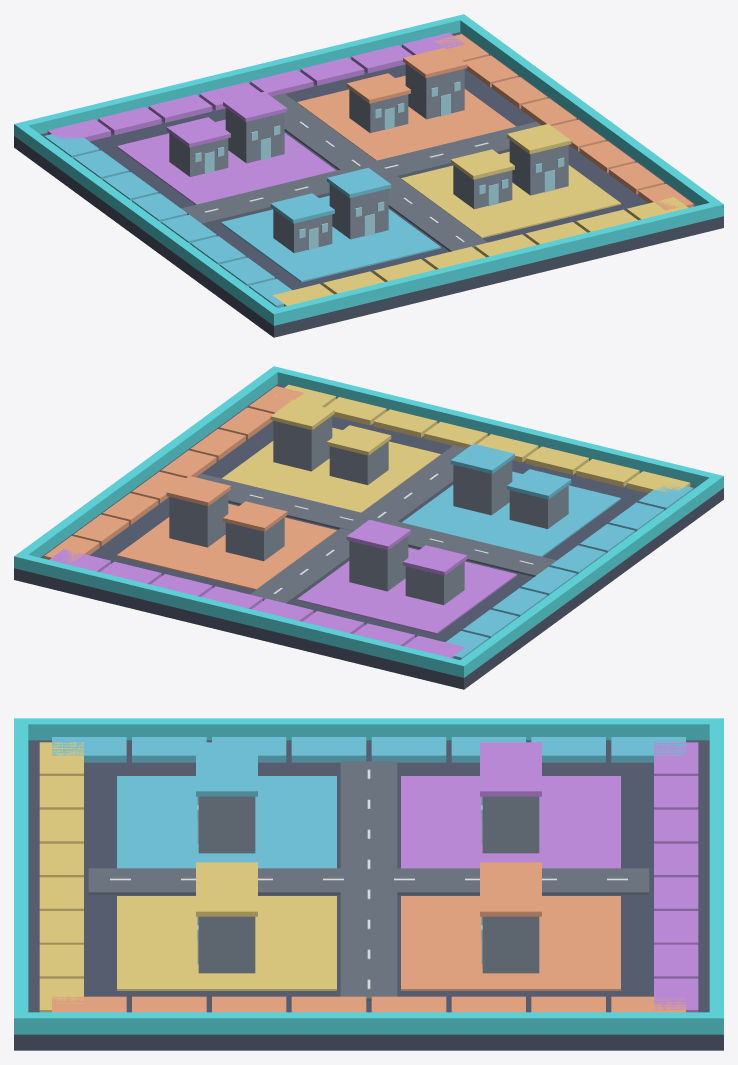
File: MCE_Board.glb
3 renders of one model, top to bottom at view 1: azimuth 30°, elevation 25°; view 2: azimuth 150°, elevation 25°; view 3: azimuth 270°, elevation 25°, orthographic. The views are drawn at different scales.
Parts seen in each view (by area): view 1: Board_Base, Border_South, Border_North, Global_District, Country_District, HipHop_District, Latin_District, Central_Road_EW, Central_Road_NS, Border_West, Border_East, Latin_Producer (+47 smaller); view 2: Board_Base, Border_North, Border_South, HipHop_District, Latin_District, Global_District, Country_District, Central_Road_EW, Central_Road_NS, Border_West, Border_East, Latin_Producer (+47 smaller); view 3: Board_Base, Latin_District, Country_District, Border_East, HipHop_District, Global_District, Central_Road_EW, Border_West, Central_Road_NS, Border_North, Border_South, HipHop_Producer (+43 smaller).
Boxes of the visible parts, x1,y1,x2,y2 form: Board_Base: [14, 32, 723, 337]; Border_South: [268, 200, 723, 325]; Border_North: [14, 14, 468, 139]; Global_District: [221, 195, 440, 282]; Country_District: [401, 151, 620, 238]; HipHop_District: [117, 119, 335, 204]; Latin_District: [297, 75, 515, 160]; Central_Road_EW: [181, 121, 540, 224]; Central_Road_NS: [271, 93, 487, 251]; Border_West: [19, 125, 277, 321]; Border_East: [460, 18, 718, 205]; Latin_Producer: [405, 64, 464, 119]; Board_Base: [14, 384, 723, 689]; Border_North: [14, 552, 469, 677]; Border_South: [269, 366, 723, 491]; HipHop_District: [297, 547, 516, 634]; Latin_District: [117, 503, 336, 590]; Global_District: [402, 471, 620, 556]; Country_District: [222, 427, 440, 512]; Central_Road_EW: [197, 473, 556, 576]; Central_Road_NS: [250, 445, 466, 603]; Border_West: [460, 477, 718, 673]; Border_East: [19, 370, 277, 557]; Latin_Producer: [169, 492, 228, 547]; Board_Base: [14, 740, 723, 1050]; Latin_District: [401, 896, 620, 990]; Country_District: [117, 896, 336, 990]; Border_East: [28, 1012, 709, 1034]; HipHop_District: [401, 776, 620, 868]; Global_District: [117, 776, 336, 868]; Central_Road_EW: [340, 761, 397, 1000]; Border_West: [28, 718, 709, 740]; Central_Road_NS: [88, 868, 649, 894]; Border_North: [709, 718, 723, 1034]; Border_South: [14, 718, 28, 1034]; HipHop_Producer: [482, 796, 539, 853].
Size of the model in its own units: 20 by 2.54 by 20.
